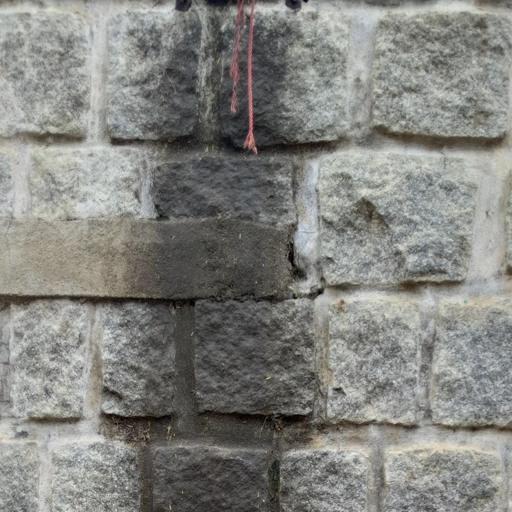stain: (123, 15, 332, 512)
